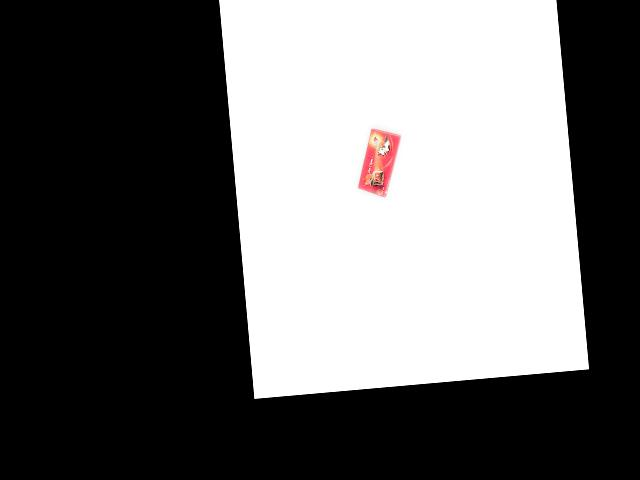chocolate: (351, 127, 406, 200)
